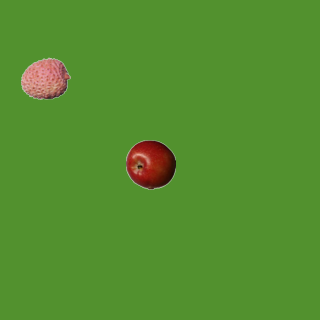Apple Braeburn: (125, 139, 175, 189)
Lychee: (20, 53, 70, 103)
